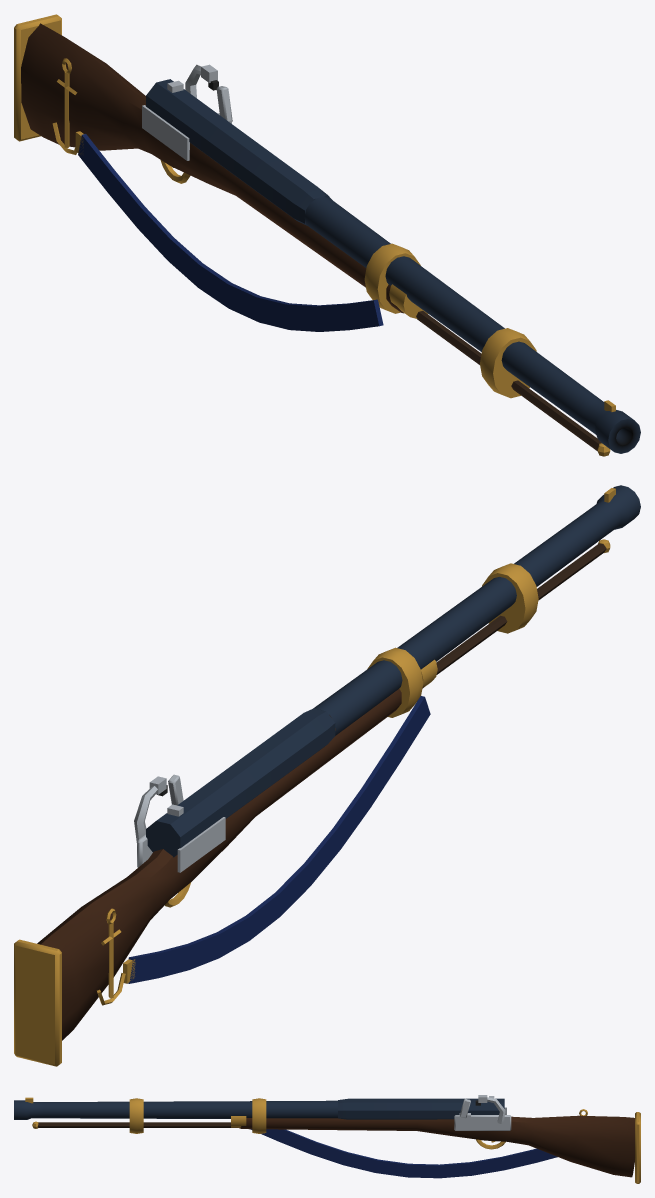
The model's file is weapon_musket_navy_hi.glb.
3 renders of one model, top to bottom at view 1: azimuth 30°, elevation 25°; view 2: azimuth 150°, elevation 25°; view 3: azimuth 270°, elevation 25°, orthographic. The views are drawn at different scales.
Visible parts, largest first — view 1: weapon_musket_navy_hi; view 2: weapon_musket_navy_hi; view 3: weapon_musket_navy_hi.
Boxes of the visible parts, x1=… form: weapon_musket_navy_hi: x1=14, y1=14, x2=640, y2=456; weapon_musket_navy_hi: x1=14, y1=485, x2=640, y2=1066; weapon_musket_navy_hi: x1=14, y1=1095, x2=640, y2=1183.
Bounding box in the file's own units: 0.0787 × 0.2376 × 1.43.
